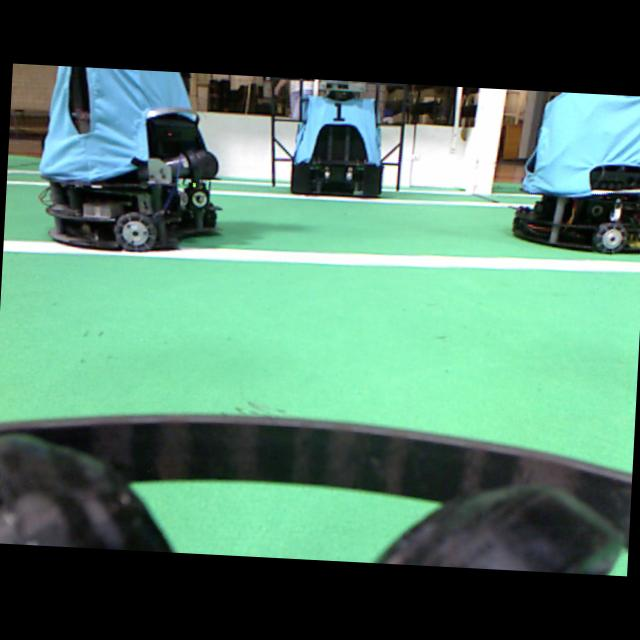goal: (473, 88, 505, 193)
